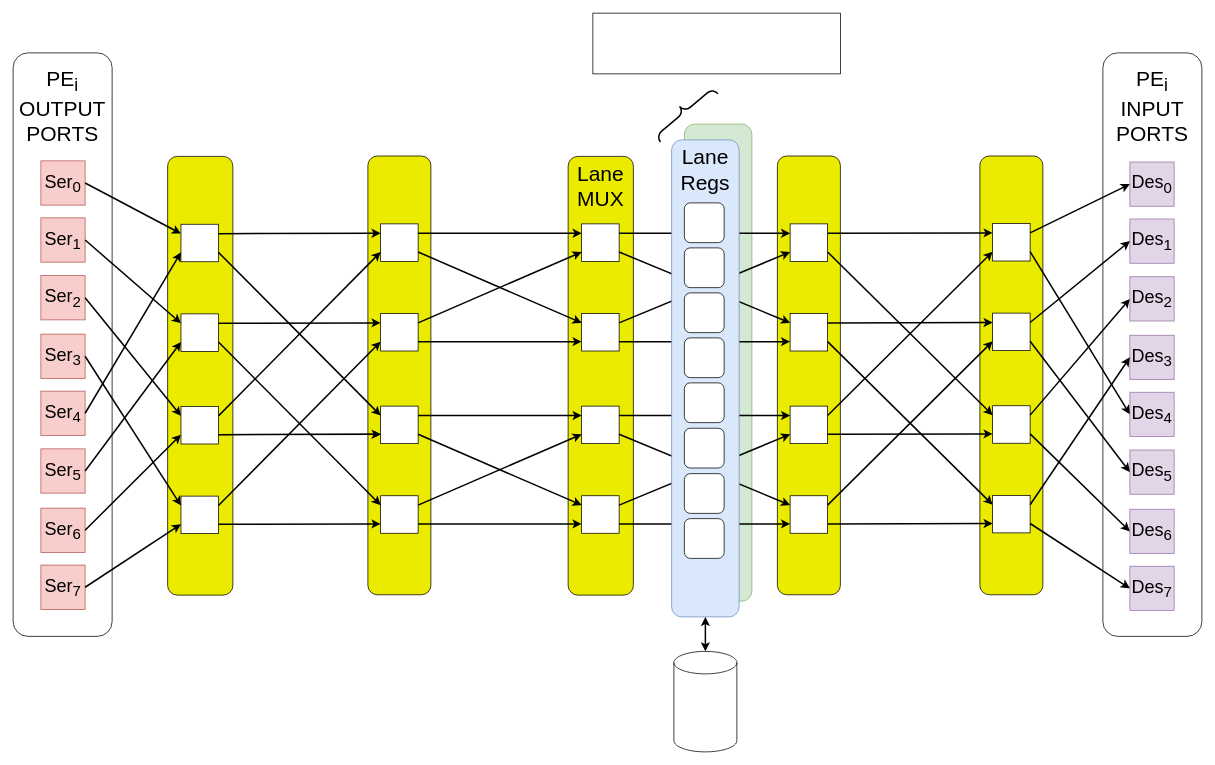
This 1215x765 diagram has some shape labels left out. The shapes that lost their labels are listed below. From the top down, each one's centre as x and y in pixels, then its label:
At (716,43): "Radix-2 Channels { Blue, Green }".
At (705,701): "TCM/ FIFO Ports".
